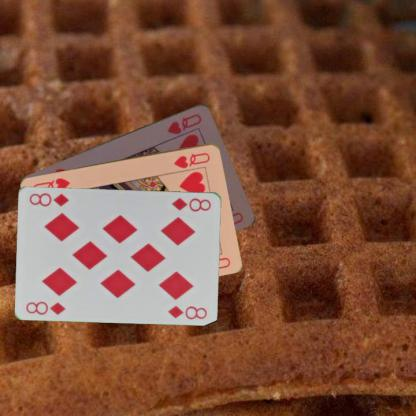8d: (169, 194, 213, 212), (24, 299, 67, 316)
Qh: (164, 110, 203, 136), (171, 150, 211, 169)
